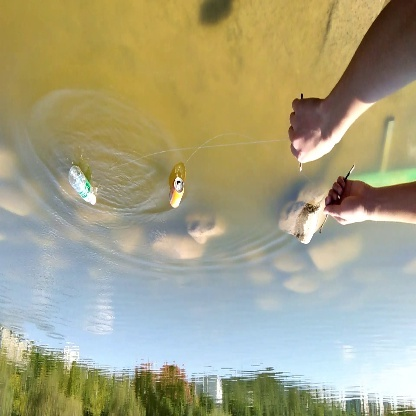bottle: (64, 164, 101, 209), (165, 174, 189, 209)
